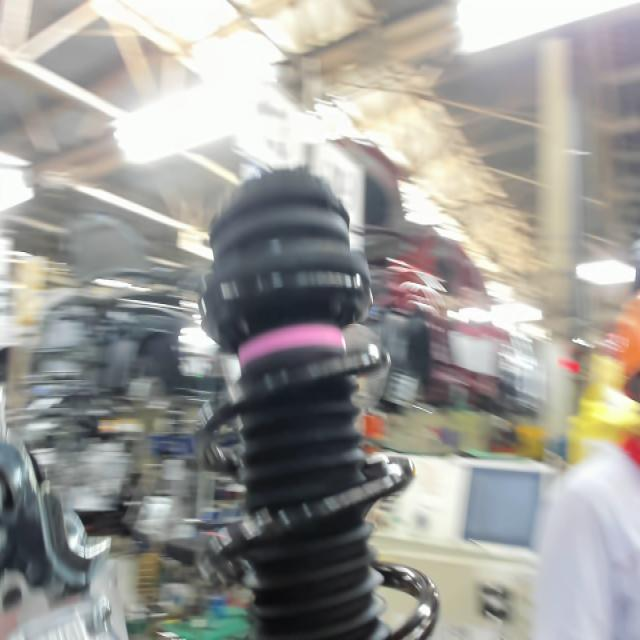Bumper-PK: (232, 314, 351, 370)
